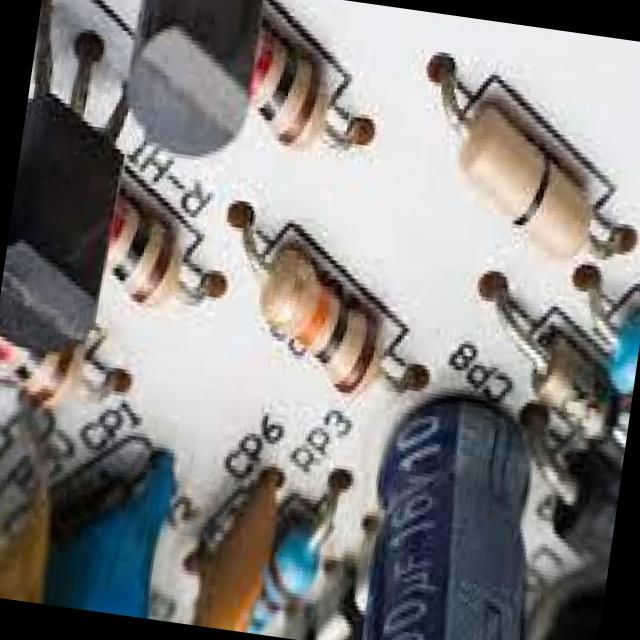Resistor: (227, 204, 400, 402), (250, 28, 375, 154), (109, 196, 182, 313), (589, 278, 640, 398)
black: (254, 42, 301, 119), (316, 288, 350, 365), (112, 213, 148, 279), (16, 338, 43, 380)
brown: (332, 300, 377, 399), (276, 61, 323, 144), (132, 229, 173, 304), (36, 348, 67, 402)
gold: (273, 251, 307, 328)
orange: (298, 281, 331, 351)
red: (247, 27, 274, 98)
